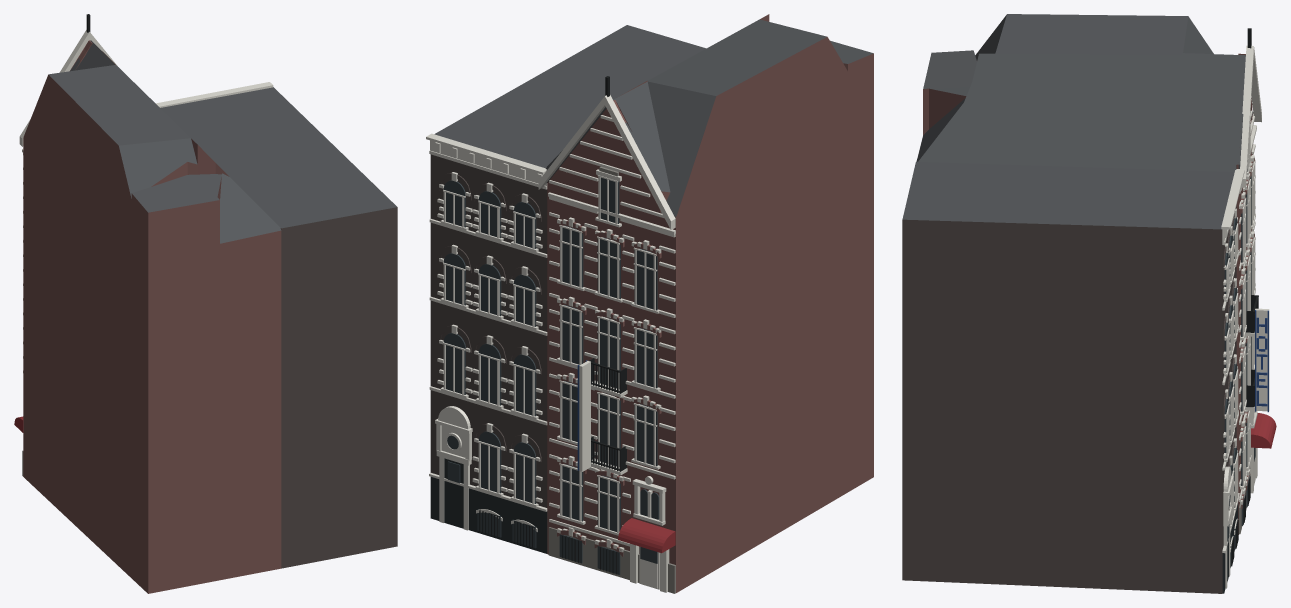
The model's file is sphinx-hotel.glb.
3 renders of one model, left to right at view 1: azimuth 30°, elevation 25°; view 2: azimuth 150°, elevation 25°; view 3: azimuth 270°, elevation 25°, orthographic. The views are drawn at different scales.
Parts seen in each view (by area): view 1: sphinx-hotel; view 2: sphinx-hotel; view 3: sphinx-hotel.
Boxes of the visible parts, x1,y1,x2,y2 form: sphinx-hotel: (14,14,397,593); sphinx-hotel: (426,14,873,593); sphinx-hotel: (902,14,1276,593).
Bounding box in the file's own units: 13.61 × 22.2 × 15.82.
